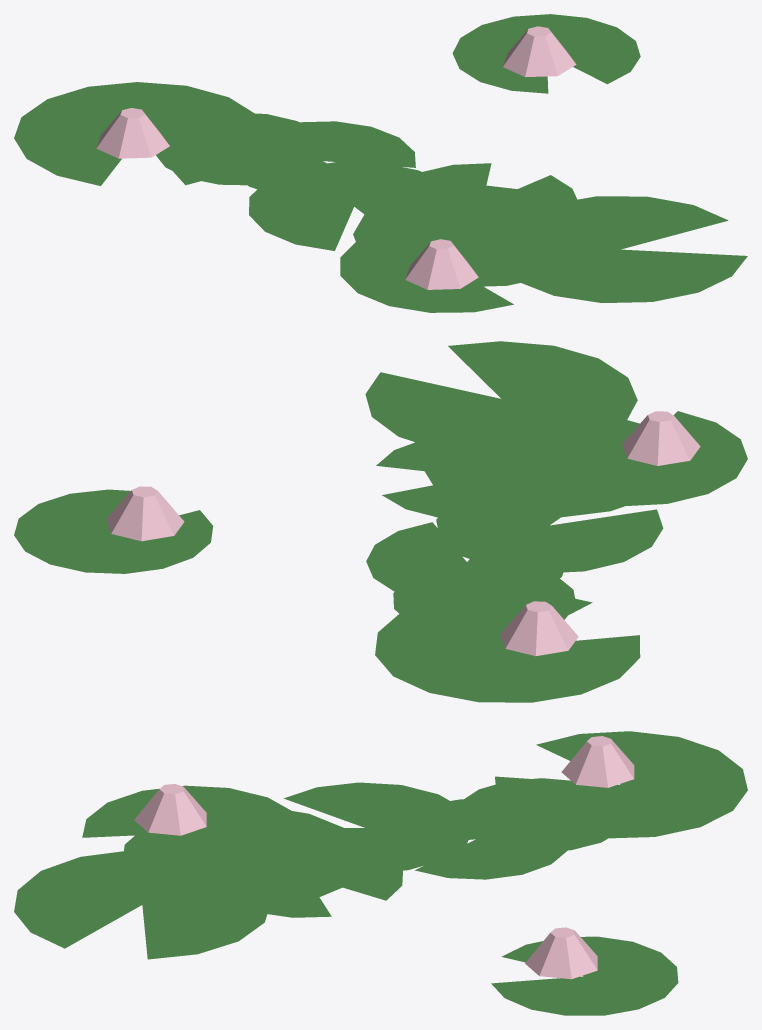
Rendered from LilyPads.fbx.
3 renders of one model, top to bottom at view 1: azimuth 30°, elevation 25°; view 2: azimuth 150°, elevation 25°; view 3: azimuth 270°, elevation 25°, orthographic. The views are drawn at different scales.
Parts seen in each view (by area): view 1: LilyPads; view 2: LilyPads; view 3: LilyPads.
Part boxes in pixels (x1,y1,x2,y2): LilyPads: (14, 14, 747, 312); LilyPads: (14, 341, 747, 702); LilyPads: (14, 731, 747, 1015).
Size of the model in its own units: 1.58 by 0.09 by 1.72.
